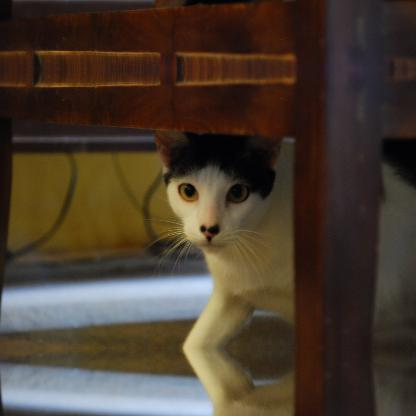Cat: (136, 128, 414, 346), (136, 348, 415, 415)
